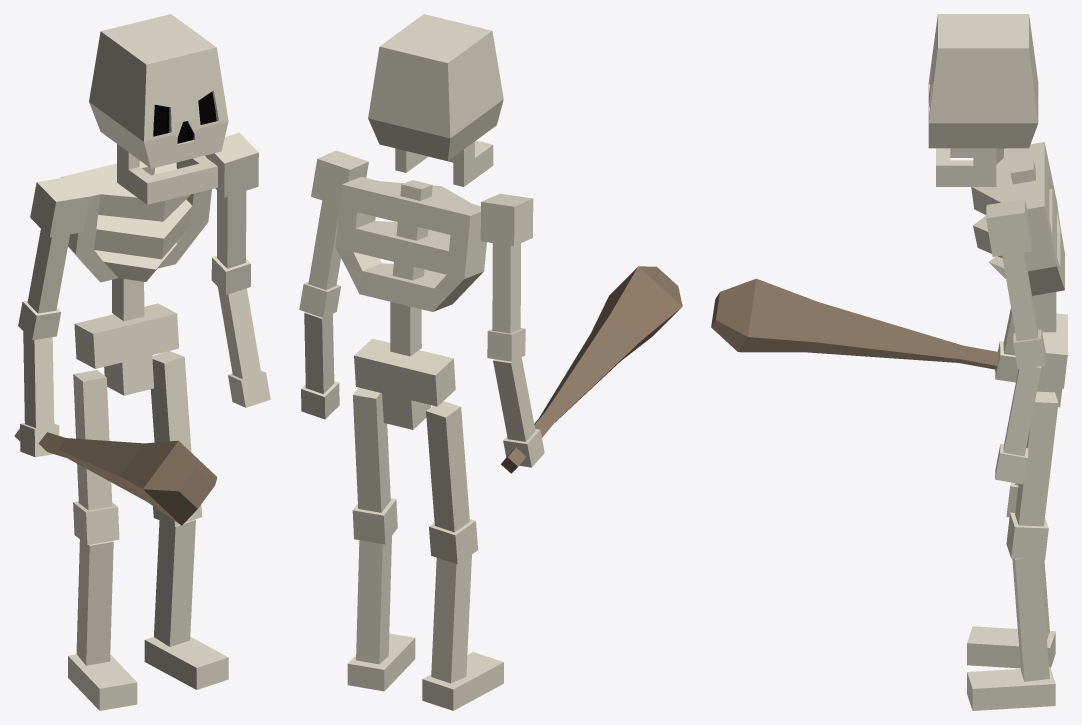
Rendered from Skeleton_Character.fbx.
3 renders of one model, left to right at view 1: azimuth 30°, elevation 25°; view 2: azimuth 150°, elevation 25°; view 3: azimuth 270°, elevation 25°, orthographic. The views are drawn at different scales.
Parts seen in each view (by area): view 1: skull, ribCage, weapon, r_upperArm, pelvis, l_upperArm, r_femur, l_shin, r_shin, l_foreArm, l_femur, r_foreArm (+2 smaller); view 2: ribCage, skull, weapon, r_upperArm, r_femur, pelvis, l_femur, l_upperArm, r_shin, l_shin, l_foreArm, r_foreArm (+2 smaller); view 3: skull, weapon, ribCage, l_upperArm, l_femur, l_shin, l_foot, l_foreArm, r_foot, pelvis, r_foreArm.
Part boxes in pixels (x1,y1,x2,y2): skull: [89, 14, 228, 204]; ribCage: [61, 155, 211, 321]; weapon: [14, 428, 217, 525]; r_upperArm: [18, 176, 89, 340]; pelvis: [74, 303, 178, 395]; l_upperArm: [205, 132, 258, 294]; r_femur: [73, 370, 119, 544]; l_shin: [154, 519, 195, 646]; r_shin: [76, 539, 113, 665]; l_foreArm: [218, 287, 270, 407]; l_femur: [150, 351, 202, 525]; r_foreArm: [20, 331, 59, 457]; ribCage: [335, 177, 486, 356]; skull: [368, 14, 503, 186]; weapon: [501, 266, 682, 473]; r_upperArm: [480, 193, 533, 361]; r_femur: [426, 401, 478, 564]; pelvis: [354, 338, 455, 429]; l_femur: [352, 387, 397, 544]; l_upperArm: [299, 150, 368, 317]; r_shin: [431, 554, 471, 683]; l_shin: [356, 536, 391, 664]; l_foreArm: [301, 312, 339, 419]; r_foreArm: [493, 357, 544, 467]; skull: [928, 14, 1038, 186]; weapon: [711, 278, 999, 369]; ribCage: [971, 142, 1064, 332]; l_upperArm: [986, 199, 1046, 369]; l_femur: [1006, 391, 1058, 559]; l_shin: [1012, 558, 1049, 681]; l_foot: [967, 667, 1055, 710]; l_foreArm: [995, 366, 1041, 484]; r_foot: [967, 626, 1055, 668]; pelvis: [1037, 313, 1067, 407]; r_foreArm: [995, 296, 1032, 382].
Bounding box in the file's own units: 81.1 × 199 × 99.4.
